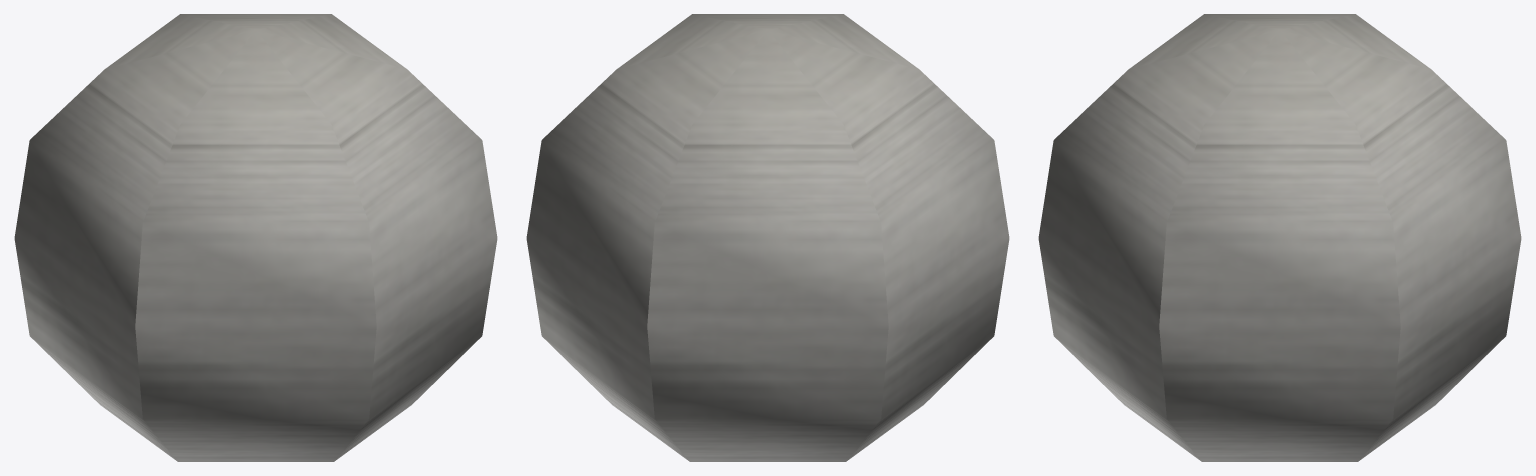
Rendered from metalpipejoint 1.fbx.
3 renders of one model, left to right at view 1: azimuth 30°, elevation 25°; view 2: azimuth 150°, elevation 25°; view 3: azimuth 270°, elevation 25°, orthographic.
Parts seen in each view (by area): view 1: metalpipejoint; view 2: metalpipejoint; view 3: metalpipejoint.
Part boxes in pixels (<box>): metalpipejoint: <box>14,14,497,461</box>; metalpipejoint: <box>526,14,1009,461</box>; metalpipejoint: <box>1038,14,1521,461</box>.
Size of the model in its own units: 92.93 by 102 by 107.
